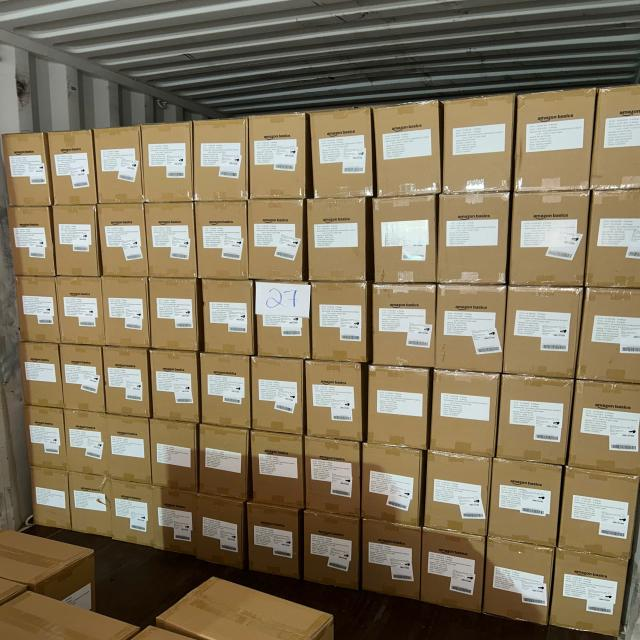Carton: (519, 90, 594, 194), (514, 190, 592, 288), (508, 284, 583, 376), (562, 466, 634, 560), (442, 96, 511, 194), (551, 546, 625, 636), (436, 190, 506, 284), (498, 376, 569, 468), (570, 382, 638, 476), (492, 458, 563, 548), (372, 103, 439, 197), (435, 282, 504, 373), (488, 536, 554, 626), (580, 289, 640, 387), (430, 368, 497, 454), (313, 107, 375, 198), (371, 195, 435, 283), (421, 528, 484, 615), (424, 453, 489, 537), (371, 282, 434, 368), (363, 444, 424, 530), (365, 365, 426, 451), (310, 198, 371, 282), (590, 188, 640, 290), (360, 520, 420, 604), (252, 112, 308, 198), (312, 281, 369, 365), (248, 201, 306, 283), (301, 513, 359, 595), (302, 439, 360, 519), (308, 361, 365, 442), (596, 88, 640, 192), (256, 279, 313, 358), (194, 120, 247, 204), (252, 429, 306, 508), (249, 502, 302, 580), (251, 355, 303, 434), (200, 279, 253, 356), (195, 490, 244, 573), (142, 122, 192, 203), (196, 203, 247, 282), (200, 423, 250, 502), (145, 204, 196, 281), (201, 354, 252, 430), (101, 205, 151, 280), (152, 281, 202, 356), (153, 350, 202, 426), (97, 129, 144, 207), (50, 130, 98, 205), (6, 207, 55, 280), (0, 132, 48, 206), (106, 345, 153, 420), (110, 478, 158, 551), (150, 421, 197, 494), (108, 410, 154, 484), (55, 206, 100, 280), (106, 280, 152, 351), (59, 344, 105, 415), (57, 280, 104, 348), (14, 277, 60, 345), (157, 488, 198, 562), (16, 341, 61, 406), (63, 407, 106, 475), (67, 471, 110, 537), (28, 404, 69, 469), (29, 466, 69, 530)
